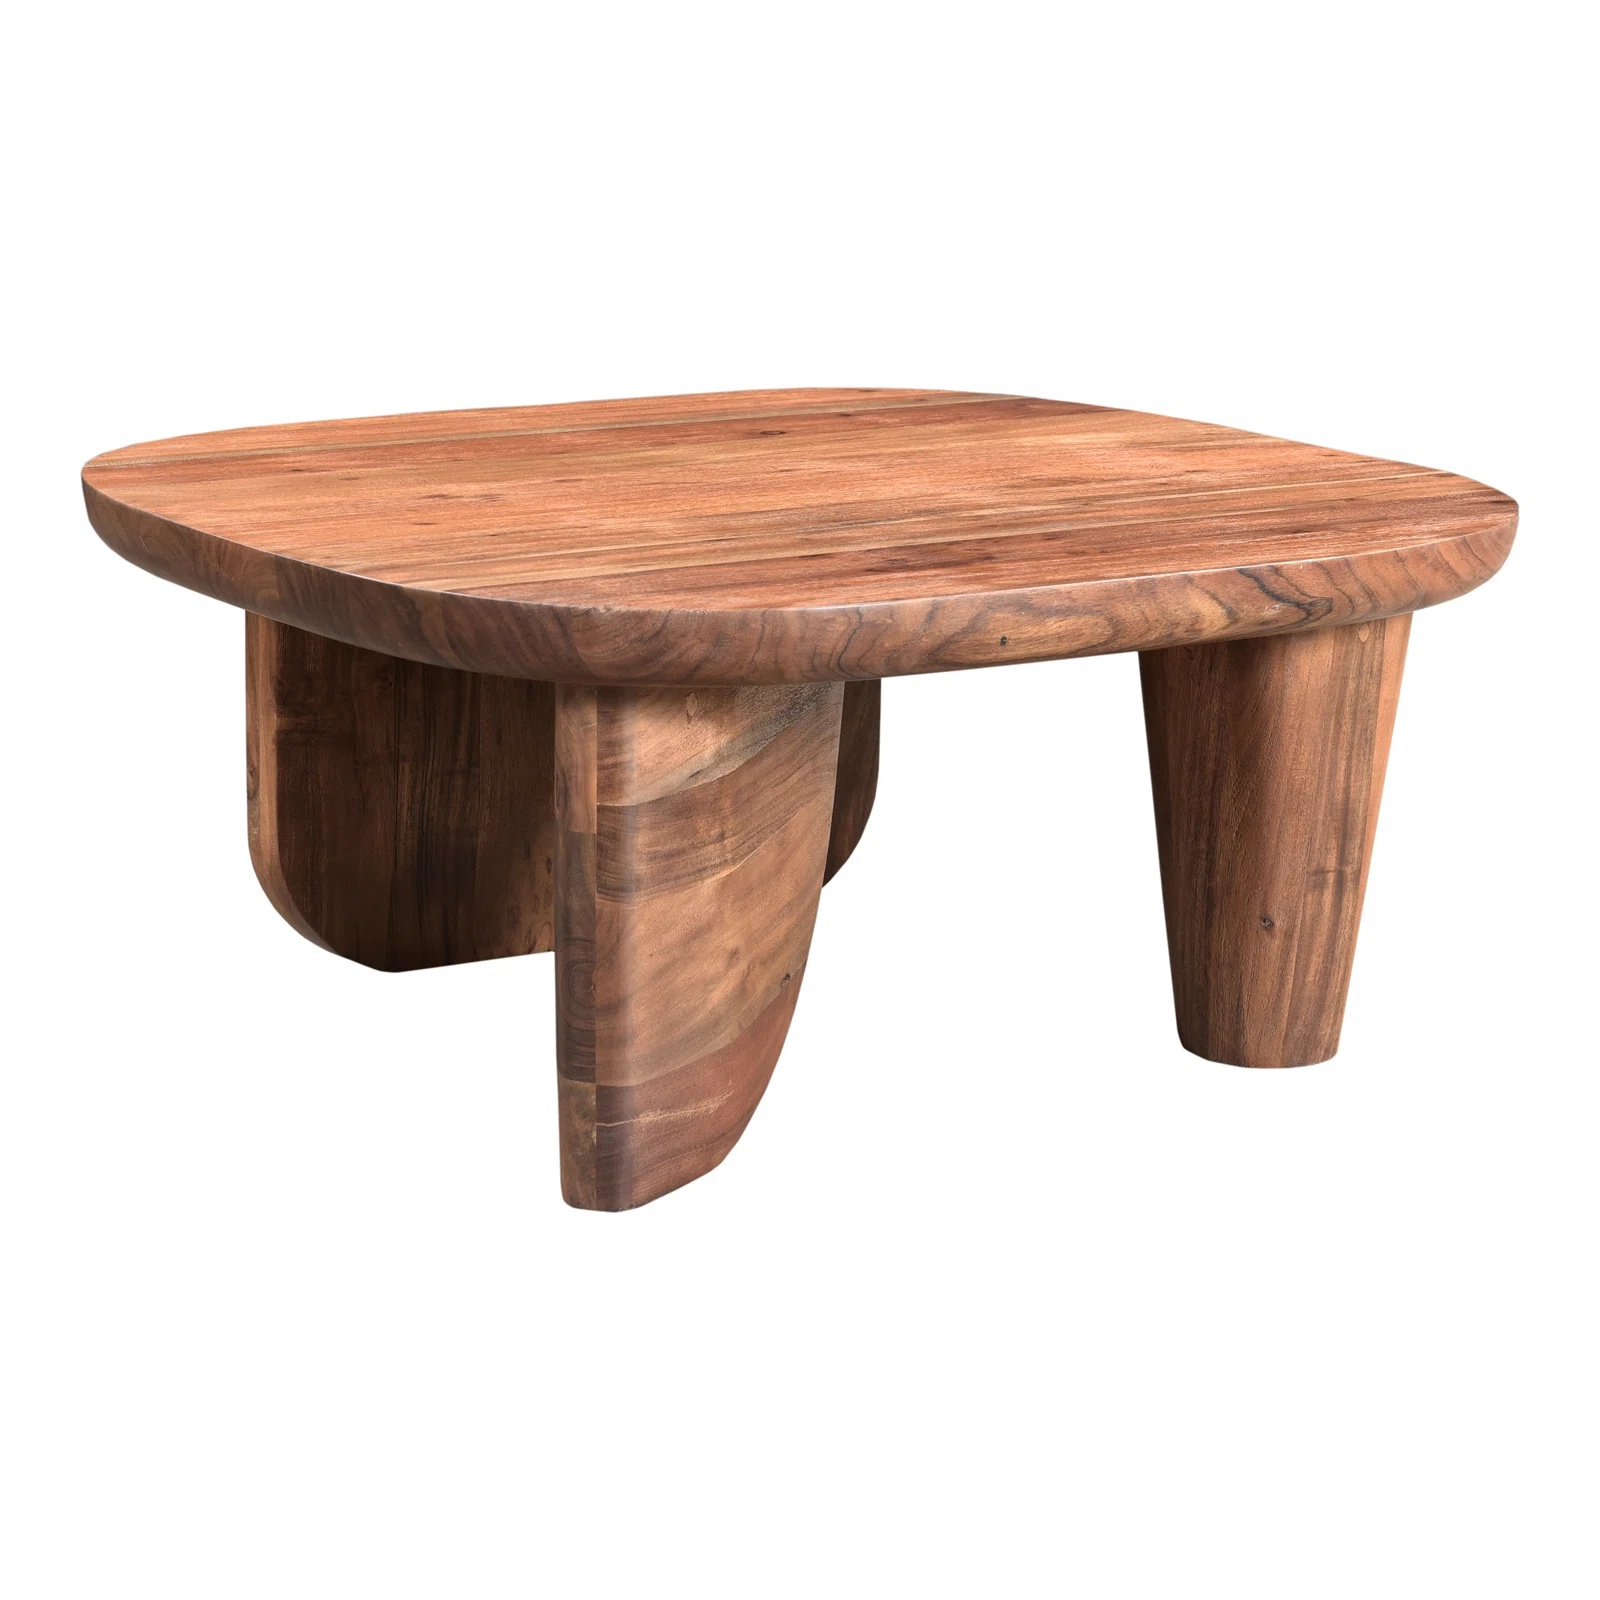obstacle: (84, 388, 1515, 1209)
